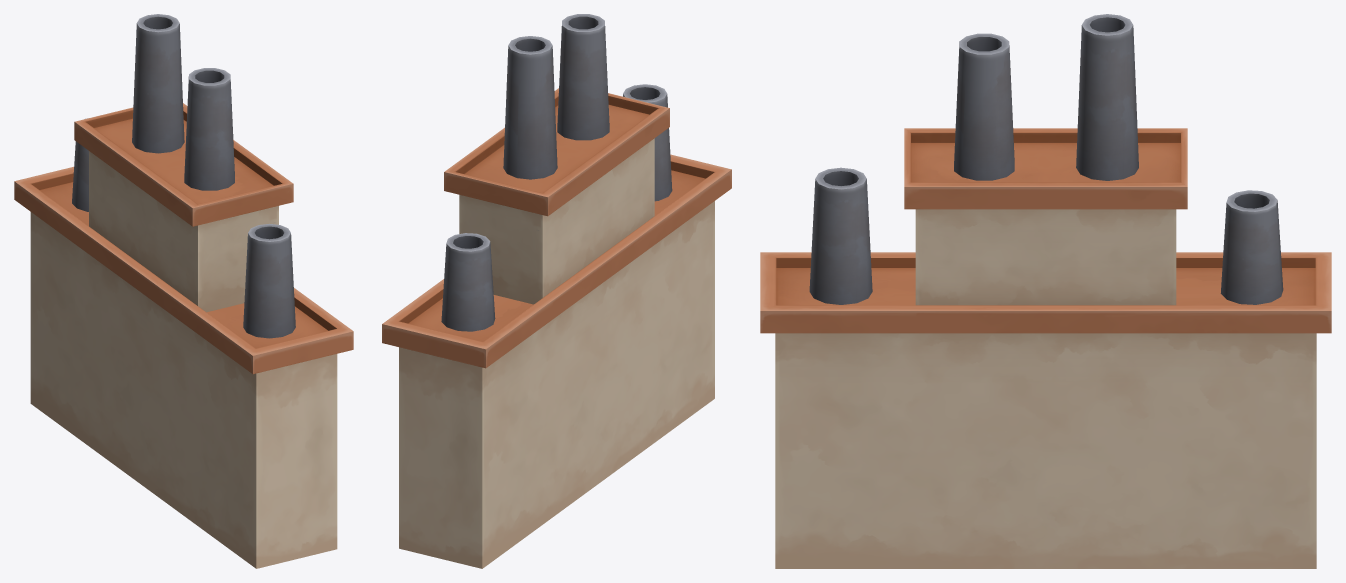
Rendered from SM_Chimney_1.FBX.
The picture shows the model from 3 angles, left to right: view 1: azimuth 30°, elevation 25°; view 2: azimuth 150°, elevation 25°; view 3: azimuth 270°, elevation 25°; orthographic projection. The views are drawn at different scales.
Parts seen in each view (by area): view 1: SM_Chimney_1; view 2: SM_Chimney_1; view 3: SM_Chimney_1.
Boxes of the visible parts, left/top/right/bottom form: SM_Chimney_1: left=14, top=14, right=353, bottom=568; SM_Chimney_1: left=382, top=14, right=731, bottom=568; SM_Chimney_1: left=760, top=14, right=1331, bottom=568.
Bounding box in the file's own units: 62.23 × 255 × 256.
